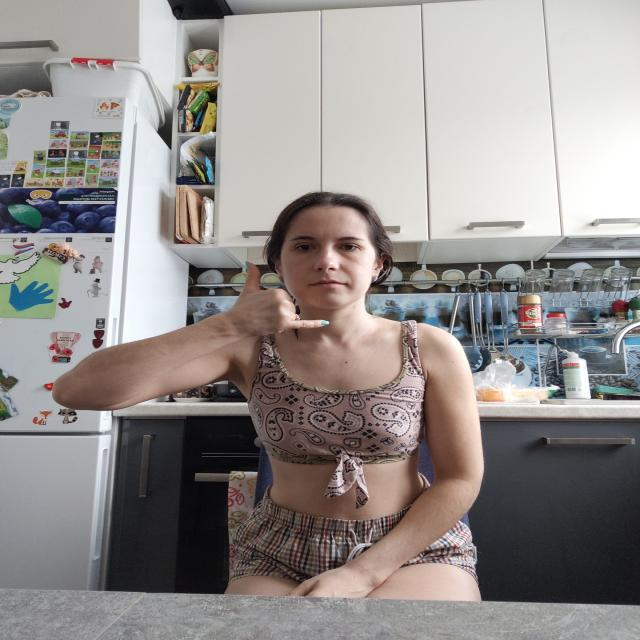call: (229, 259, 334, 338)
